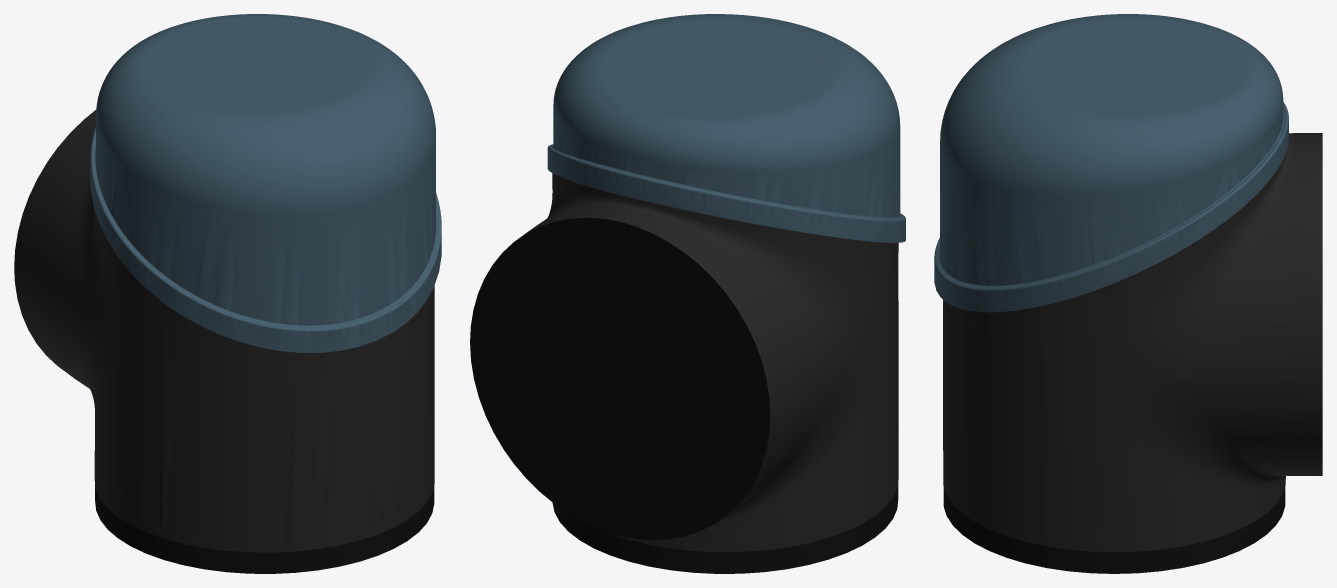
The model's file is wrist1.obj.
The picture shows the model from 3 angles, left to right: view 1: azimuth 30°, elevation 25°; view 2: azimuth 150°, elevation 25°; view 3: azimuth 270°, elevation 25°; orthographic projection.
Visible parts, largest first — view 1: Actor1, Actor0_(7); view 2: Actor0_(7), Actor1; view 3: Actor0_(7), Actor1.
Boxes of the visible parts, x1,y1,x2,y2 form: Actor1: (90,14,441,352); Actor0_(7): (14,110,434,573); Actor0_(7): (470,173,898,573); Actor1: (547,14,905,242); Actor0_(7): (943,133,1322,573); Actor1: (934,14,1288,312).
Size of the model in its own units: 0.0775 by 0.1047 by 0.0849.
